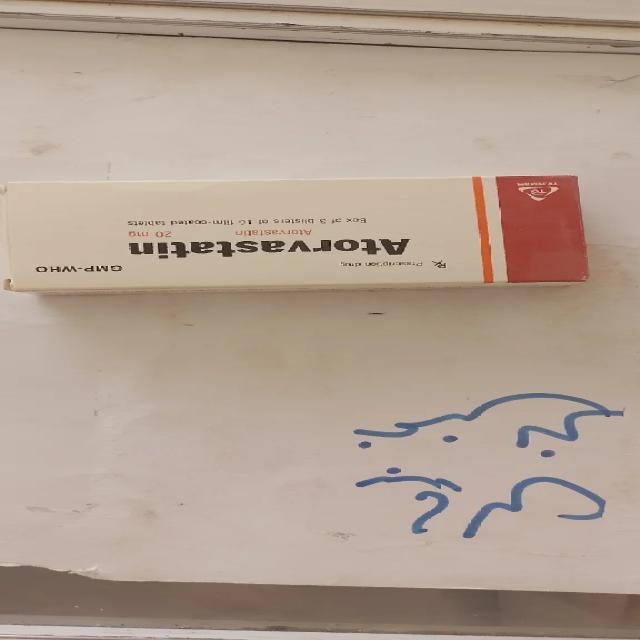drug-name: (127, 238, 410, 258)
